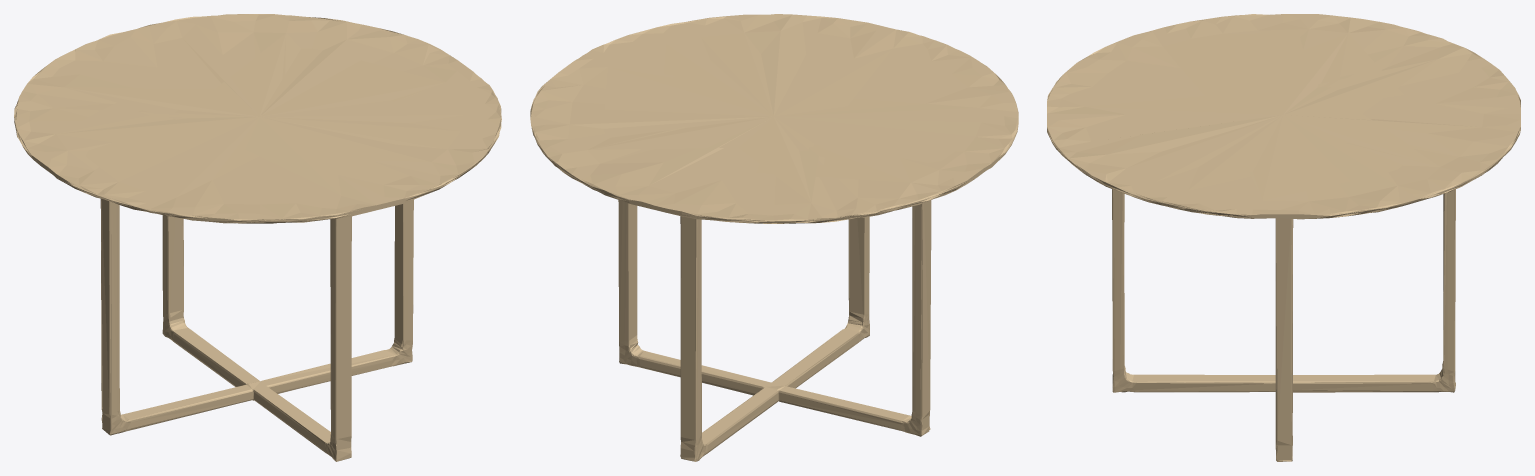
File: gen-dining-table-round-birch-1.glb
The picture shows the model from 3 angles, left to right: view 1: azimuth 30°, elevation 25°; view 2: azimuth 150°, elevation 25°; view 3: azimuth 270°, elevation 25°; orthographic projection.
Parts seen in each view (by area): view 1: gen-dining-table-round-birch-1_part1; view 2: gen-dining-table-round-birch-1_part1; view 3: gen-dining-table-round-birch-1_part1.
Boxes of the visible parts, x1=… form: gen-dining-table-round-birch-1_part1: x1=14, y1=14, x2=501, y2=461; gen-dining-table-round-birch-1_part1: x1=530, y1=14, x2=1018, y2=461; gen-dining-table-round-birch-1_part1: x1=1047, y1=14, x2=1520, y2=461.
Size of the model in its own units: 1117 by 720 by 1117.
